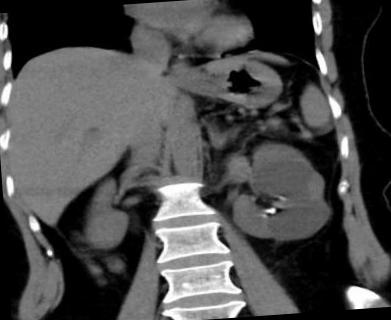Tas_Var: (262, 206, 279, 215)
